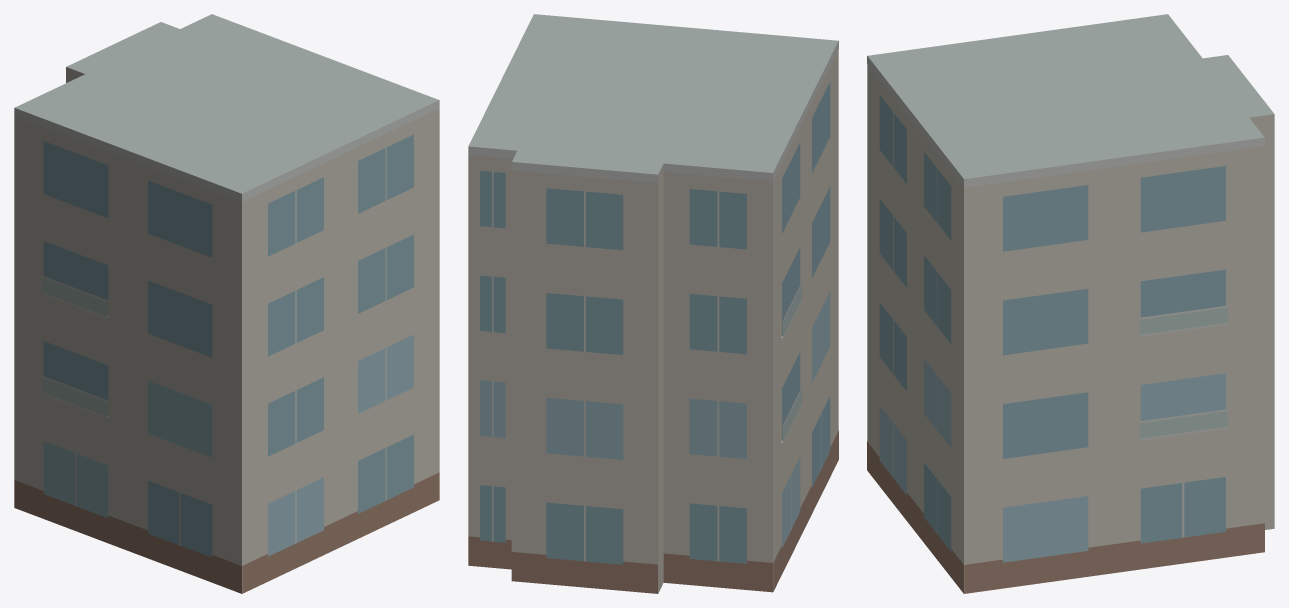
File: survey-upis-32621372.glb
The picture shows the model from 3 angles, left to right: view 1: azimuth 30°, elevation 25°; view 2: azimuth 150°, elevation 25°; view 3: azimuth 270°, elevation 25°; orthographic projection. The views are drawn at different scales.
Parts seen in each view (by area): view 1: survey-upis-32621372.tmp; view 2: survey-upis-32621372.tmp; view 3: survey-upis-32621372.tmp.
Boxes of the visible parts, left/top/right/bottom form: survey-upis-32621372.tmp: left=14, top=14, right=439, bottom=593; survey-upis-32621372.tmp: left=468, top=14, right=838, bottom=593; survey-upis-32621372.tmp: left=867, top=14, right=1274, bottom=593.
Bounding box in the file's own units: 10.26 × 12 × 10.69.
